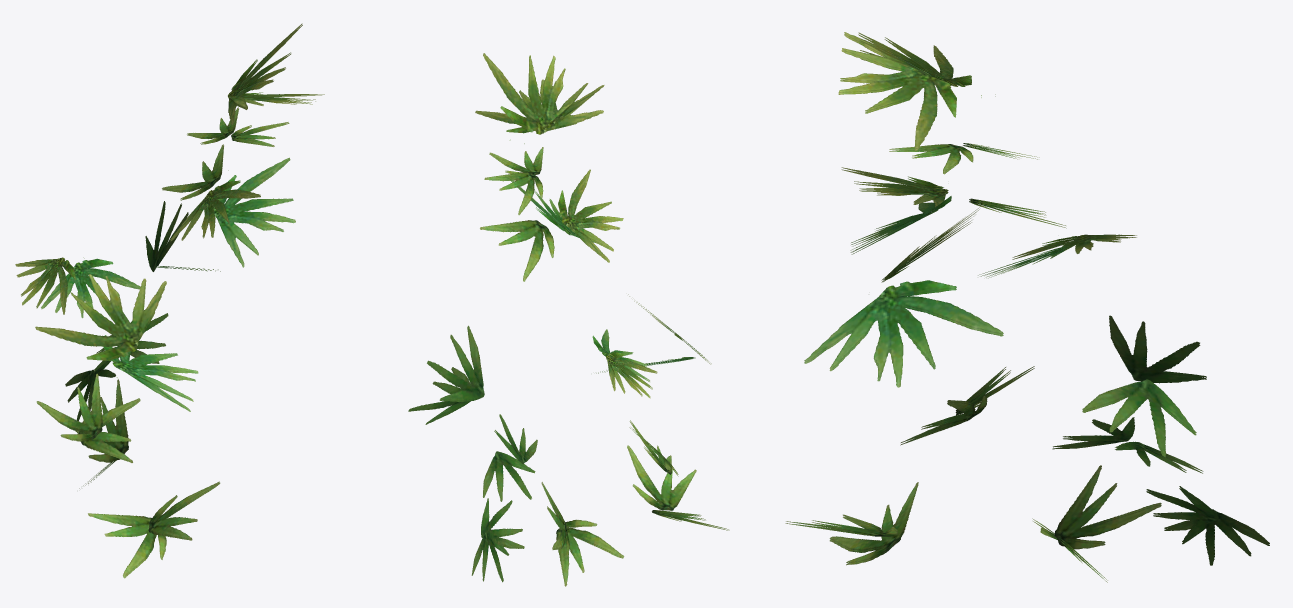
Rendered from Area_10_14.fbx.
3 views of the same model, side by side, from view 1: azimuth 30°, elevation 25°; view 2: azimuth 150°, elevation 25°; view 3: azimuth 270°, elevation 25° (orthographic). The views are drawn at different scales.
Visible parts, largest first — view 1: Area_10_14; view 2: Area_10_14; view 3: Area_10_14.
Part boxes in pixels (<box>): Area_10_14: <box>15,23,324,578</box>; Area_10_14: <box>408,53,729,586</box>; Area_10_14: <box>785,32,1269,582</box>.
Size of the model in its own units: 858 by 1386 by 935.
